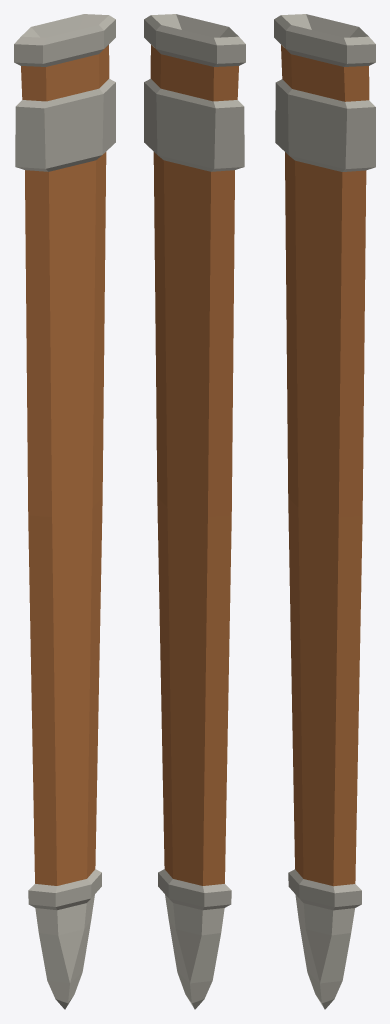
The model's file is SM_pwe_fantasy_sword_scabbard_01.fbx.
3 views of the same model, side by side, from view 1: azimuth 30°, elevation 25°; view 2: azimuth 150°, elevation 25°; view 3: azimuth 330°, elevation 25° (orthographic).
Visible parts, largest first — view 1: SM_pwe_fantasy_sword_scabbard_01; view 2: SM_pwe_fantasy_sword_scabbard_01; view 3: SM_pwe_fantasy_sword_scabbard_01.
Boxes of the visible parts, bbox=[...] form: SM_pwe_fantasy_sword_scabbard_01: bbox=[14, 14, 115, 1009]; SM_pwe_fantasy_sword_scabbard_01: bbox=[144, 14, 245, 1009]; SM_pwe_fantasy_sword_scabbard_01: bbox=[274, 14, 375, 1009].
Size of the model in its own units: 8.79 by 81.16 by 2.58.
